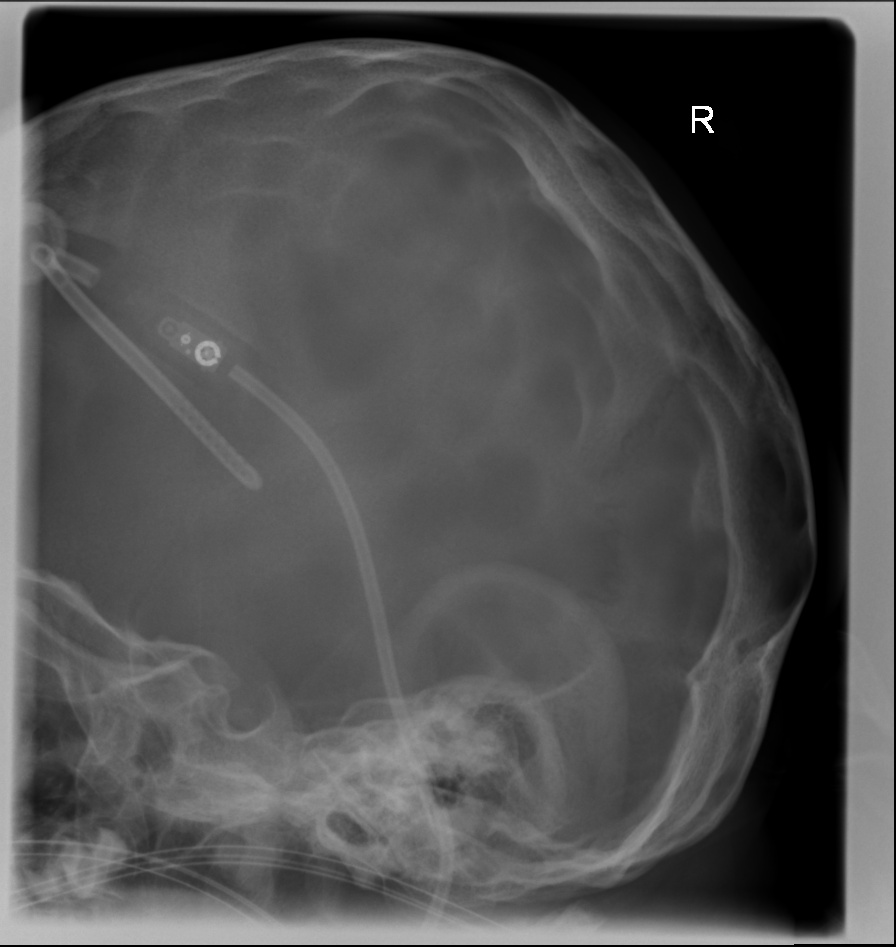Codman Hakim: (150, 313, 231, 375)
